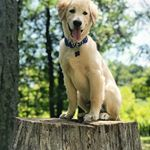puppy: (52, 1, 128, 125)
